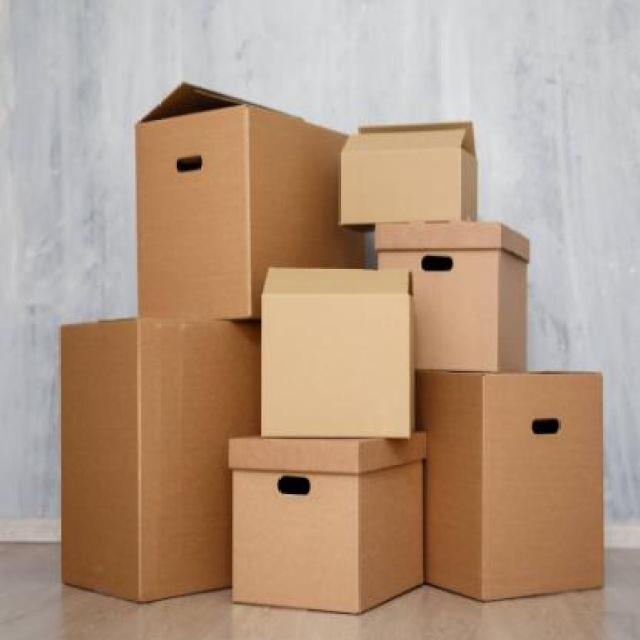box: (124, 62, 376, 360), (38, 308, 258, 619), (412, 362, 618, 621), (214, 427, 437, 640), (246, 266, 428, 468), (351, 212, 537, 390), (338, 119, 498, 236)
